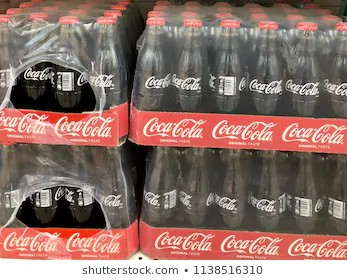coke-glass-bottle: (282, 21, 324, 116), (132, 16, 172, 112), (207, 16, 245, 113), (245, 16, 279, 118), (92, 15, 125, 119), (172, 16, 207, 113), (60, 16, 88, 113), (28, 15, 56, 107), (146, 146, 178, 223)
